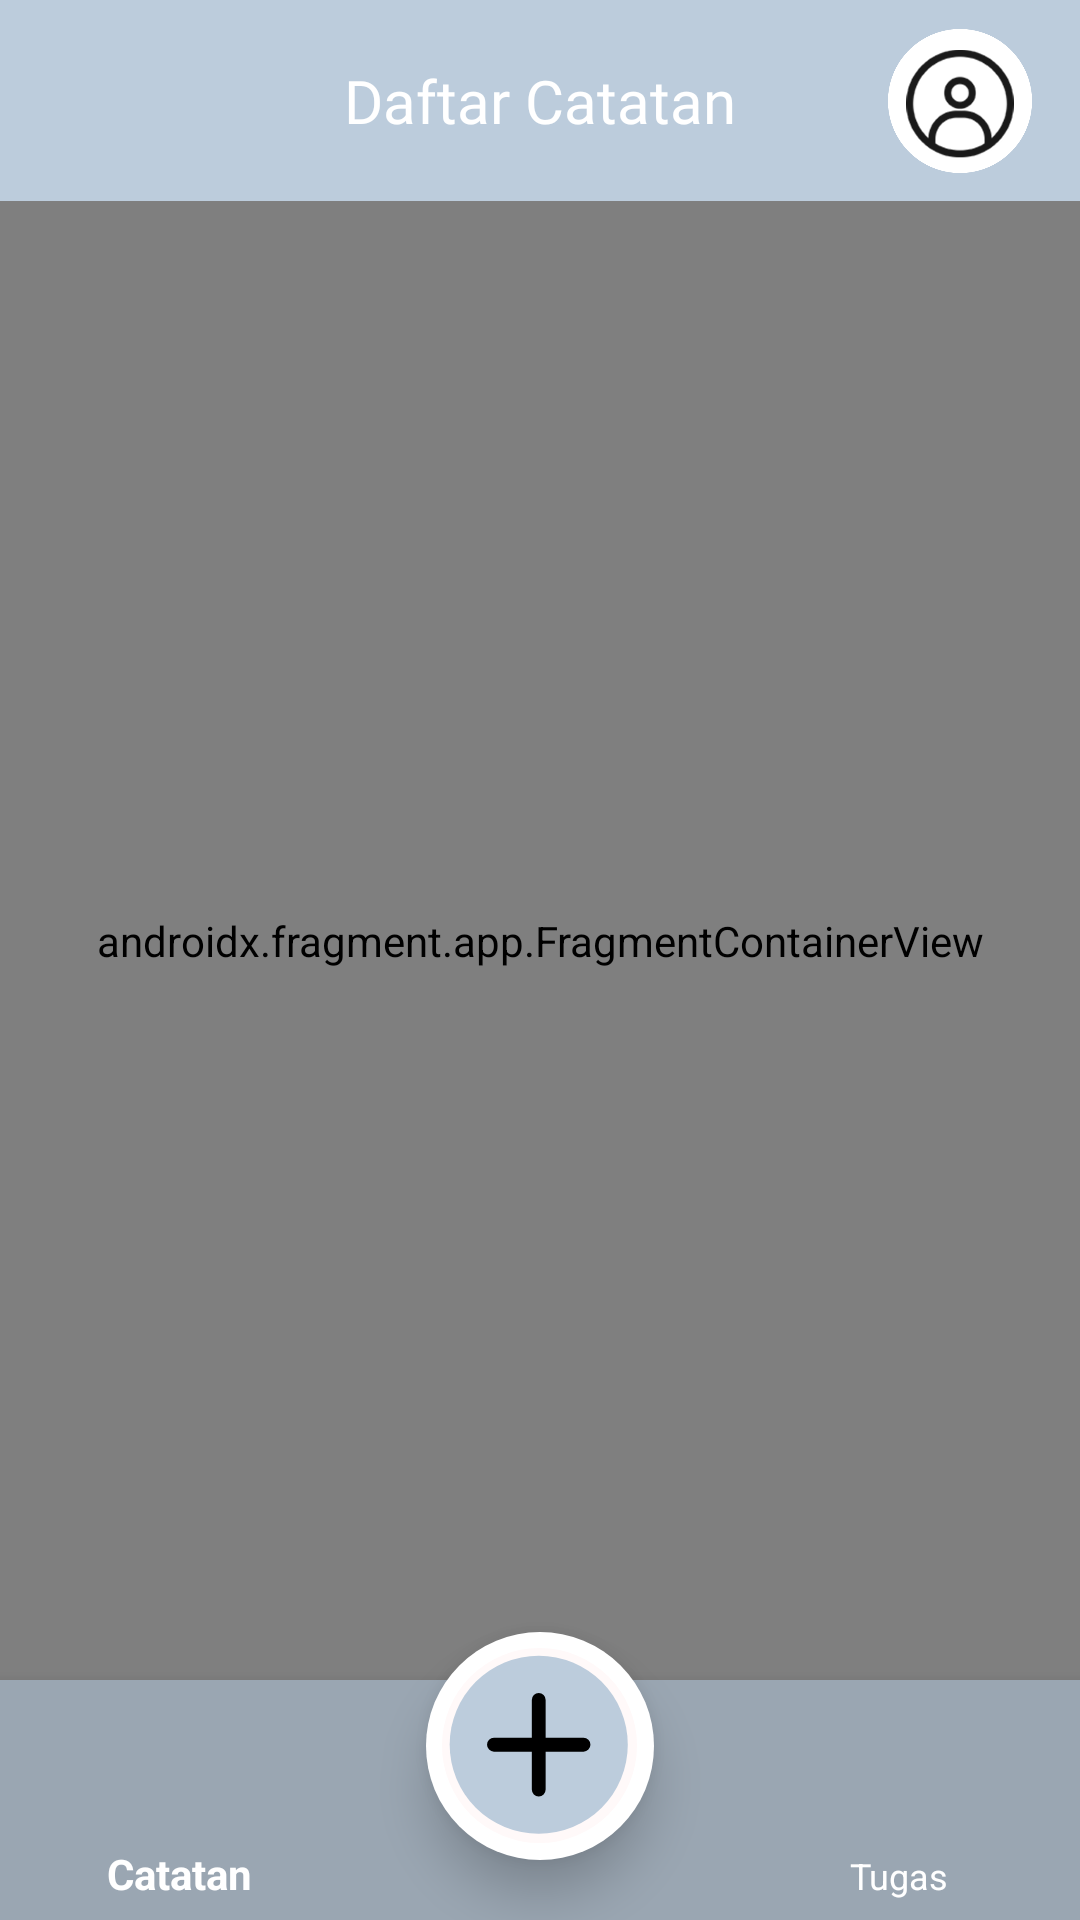

Icon click points for this 1080x1920 phone screenshot, format point (x, y):
tambahkan: point (540, 1746)
To Profile: point (960, 101)
